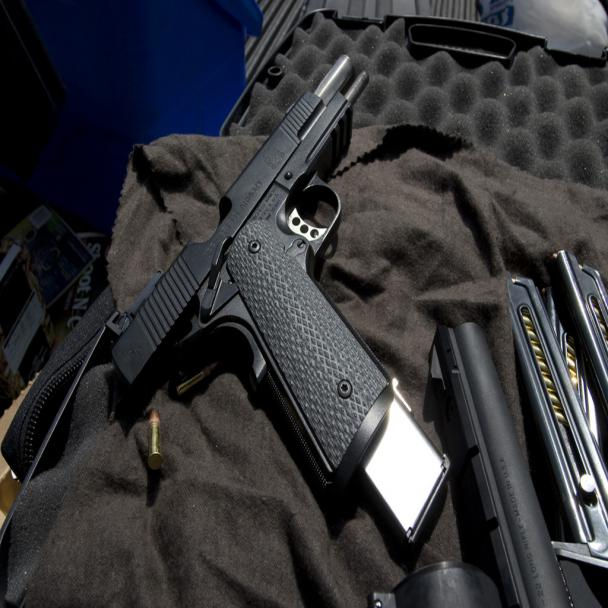Gun: (106, 42, 454, 568)
